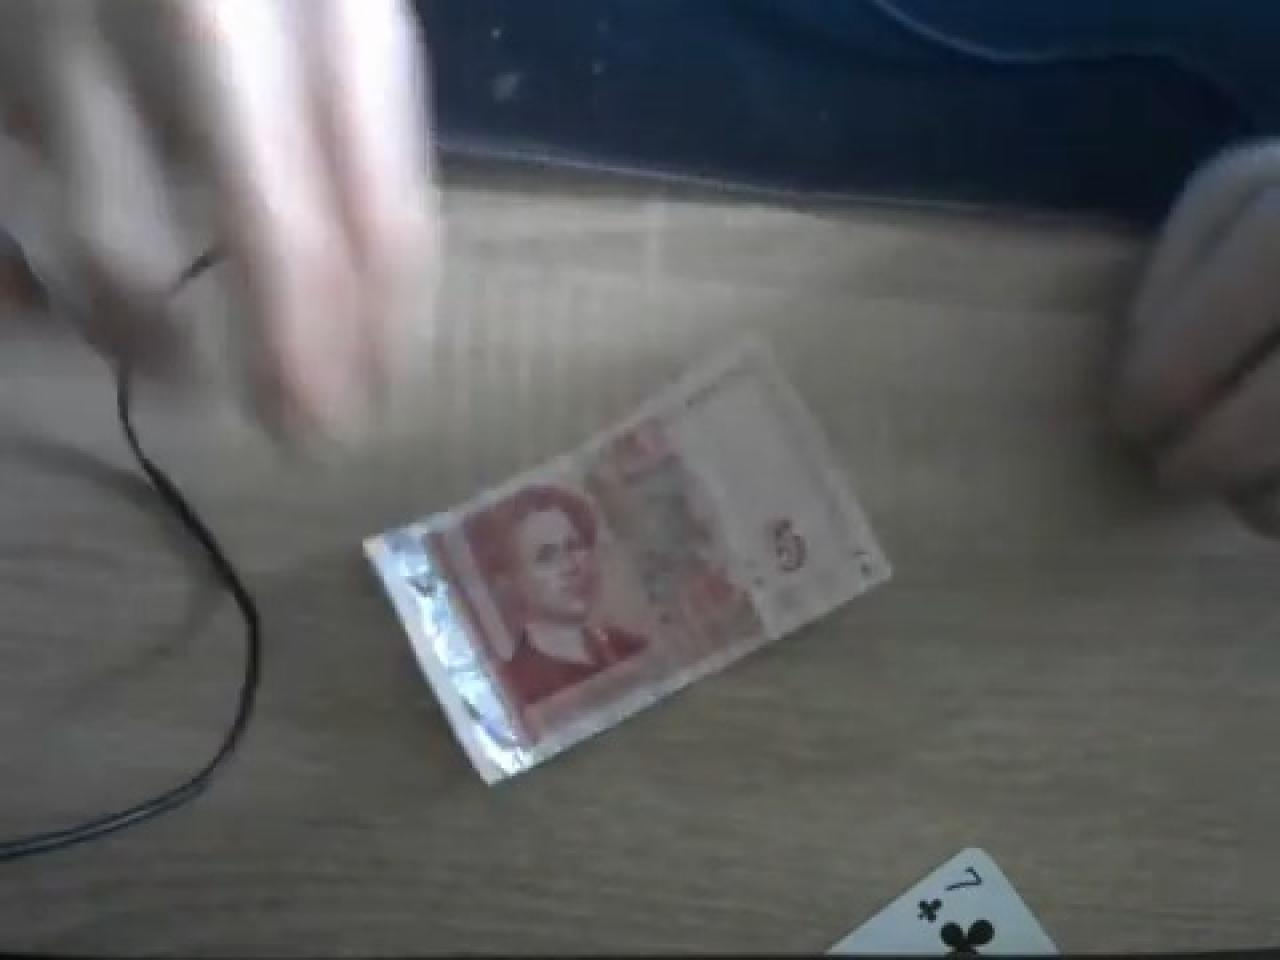5leva: (358, 334, 893, 790)
